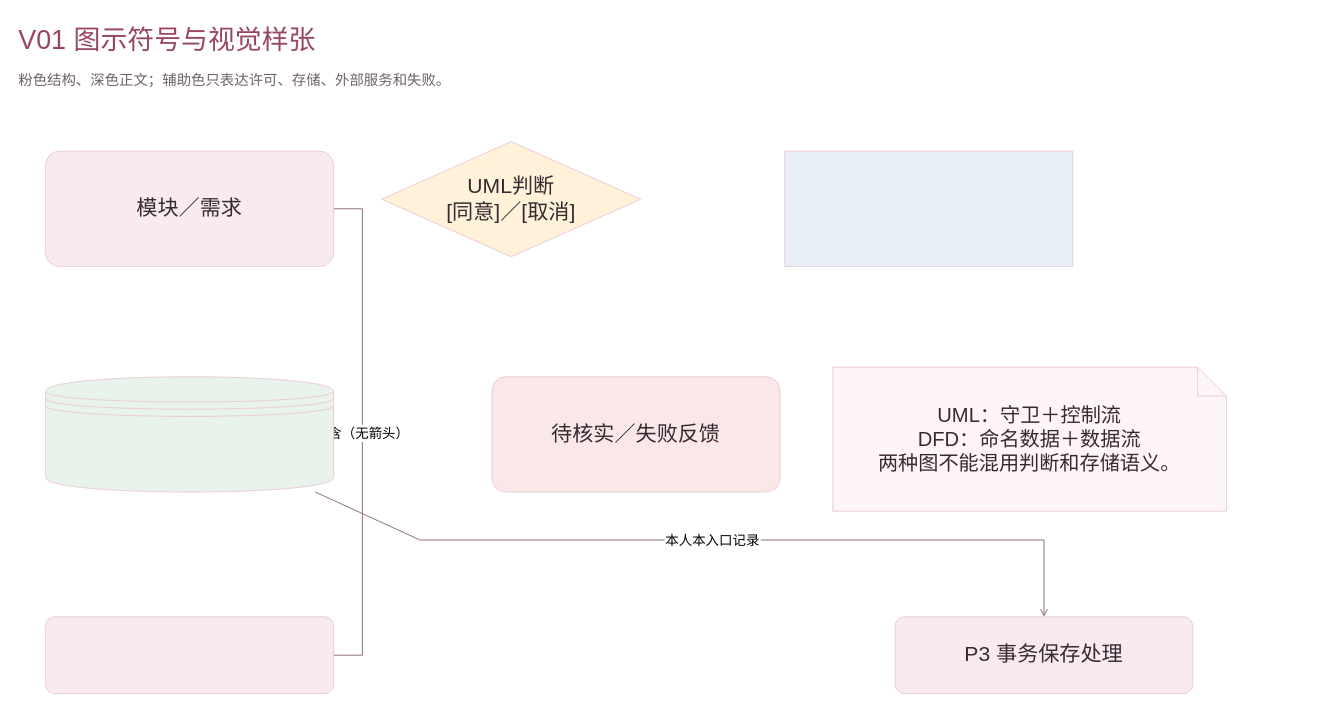
Image size: 1319x710. Some labels were removed from this diagram. Here are the shapes that lost their labels. From the top down, the box of each, then its label:
(784, 150, 1073, 266): 外部模型／检索
(45, 376, 334, 492): D2 主动保存存储
(45, 616, 334, 694): 关键子功能
